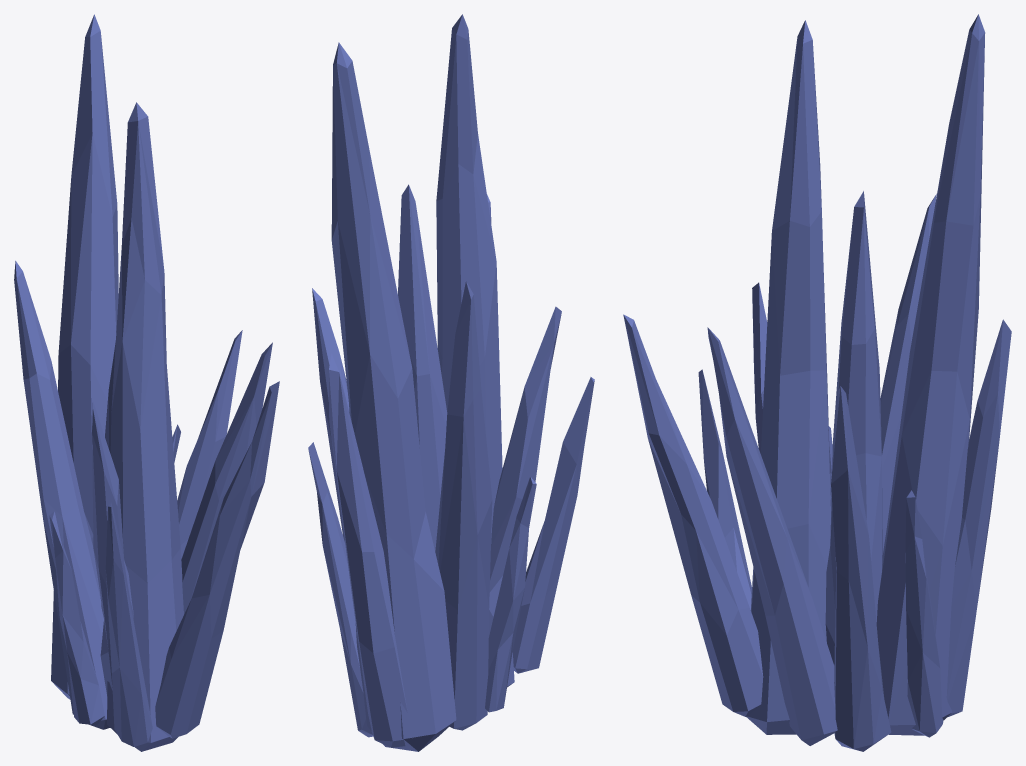
The model's file is Coral5.glb.
The picture shows the model from 3 angles, left to right: view 1: azimuth 30°, elevation 25°; view 2: azimuth 150°, elevation 25°; view 3: azimuth 270°, elevation 25°; orthographic projection. The views are drawn at different scales.
Parts seen in each view (by area): view 1: Coral.005; view 2: Coral.005; view 3: Coral.005.
Part boxes in pixels (<box>): Coral.005: <box>14,14,279,751</box>; Coral.005: <box>308,14,594,751</box>; Coral.005: <box>623,14,1011,751</box>.
Size of the model in its own units: 21.48 by 68.1 by 32.71.
